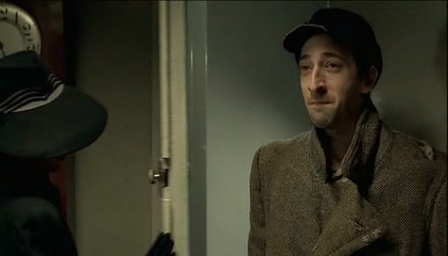face: (300, 39, 353, 127)
mcu: (1, 1, 448, 256)
person: (247, 7, 448, 256)
